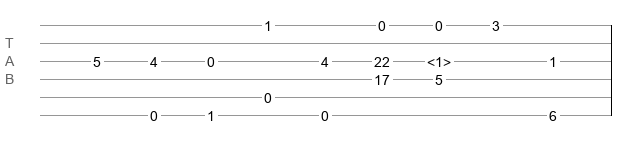0: (150, 108, 158, 118), (207, 54, 215, 64), (264, 90, 272, 100), (321, 108, 329, 118), (378, 18, 386, 28), (435, 18, 443, 28)
1: (207, 108, 215, 118), (264, 18, 272, 28), (549, 54, 557, 64)
17: (374, 72, 390, 82)
22: (374, 54, 390, 64)
3: (492, 18, 500, 28)
4: (150, 54, 158, 64), (321, 54, 329, 64)
5: (93, 54, 101, 64), (435, 72, 443, 82)
6: (549, 108, 557, 118)
harmonic: (427, 54, 451, 64)
